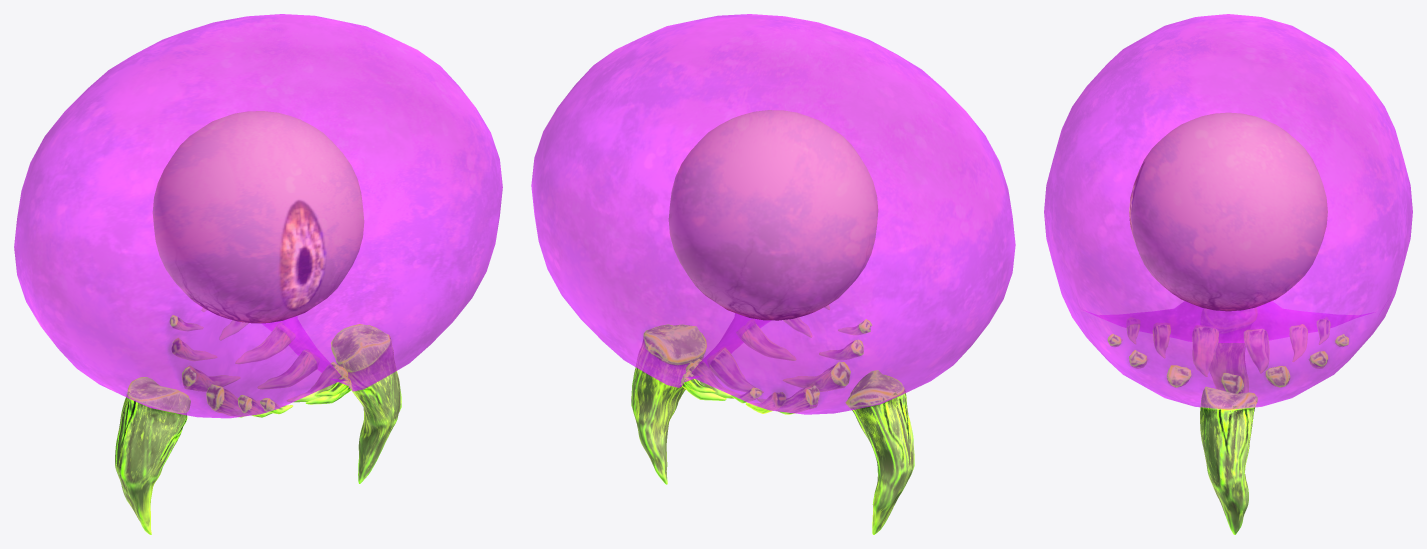
3 renders of one model, left to right at view 1: azimuth 30°, elevation 25°; view 2: azimuth 150°, elevation 25°; view 3: azimuth 270°, elevation 25°, orthographic. The views are drawn at different scales.
Parts seen in each view (by area): view 1: corble_toz, pSphere1, tooth_zbrush4_2; view 2: corble_toz, pSphere1, tooth_zbrush4_2; view 3: corble_toz, pSphere1, tooth_zbrush4_2.
Boxes of the visible parts, <box> form: corble_toz: <box>14,14,502,418</box>; pSphere1: <box>152,111,364,323</box>; tooth_zbrush4_2: <box>115,308,401,534</box>; corble_toz: <box>531,14,1015,414</box>; pSphere1: <box>668,110,878,320</box>; tooth_zbrush4_2: <box>631,305,914,534</box>; corble_toz: <box>1044,14,1412,409</box>; pSphere1: <box>1129,112,1327,311</box>; tooth_zbrush4_2: <box>1107,319,1348,534</box>.
Bounding box in the file's own units: 1.97 × 2 × 1.5.
Materials: 3 (3 with a texture image).
